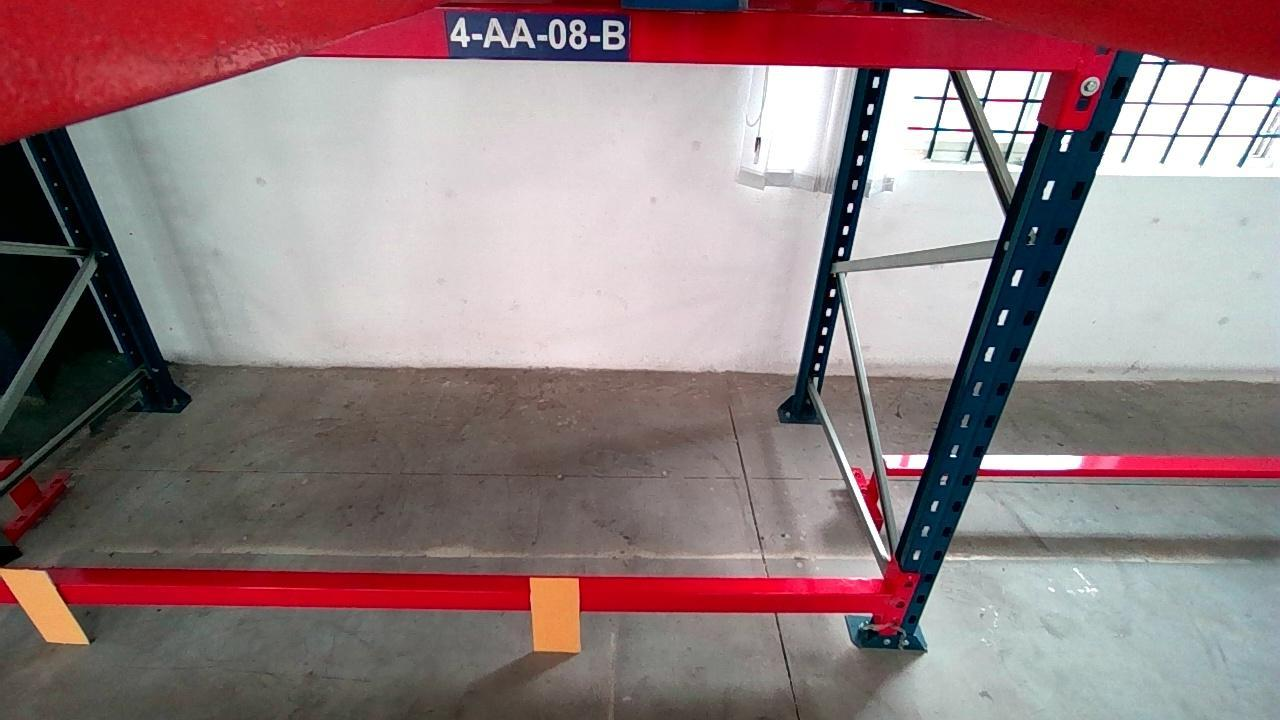h_rack: (314, 12, 1077, 67), (0, 578, 887, 614)
orange_strip: (1, 571, 89, 642), (530, 577, 580, 654)
